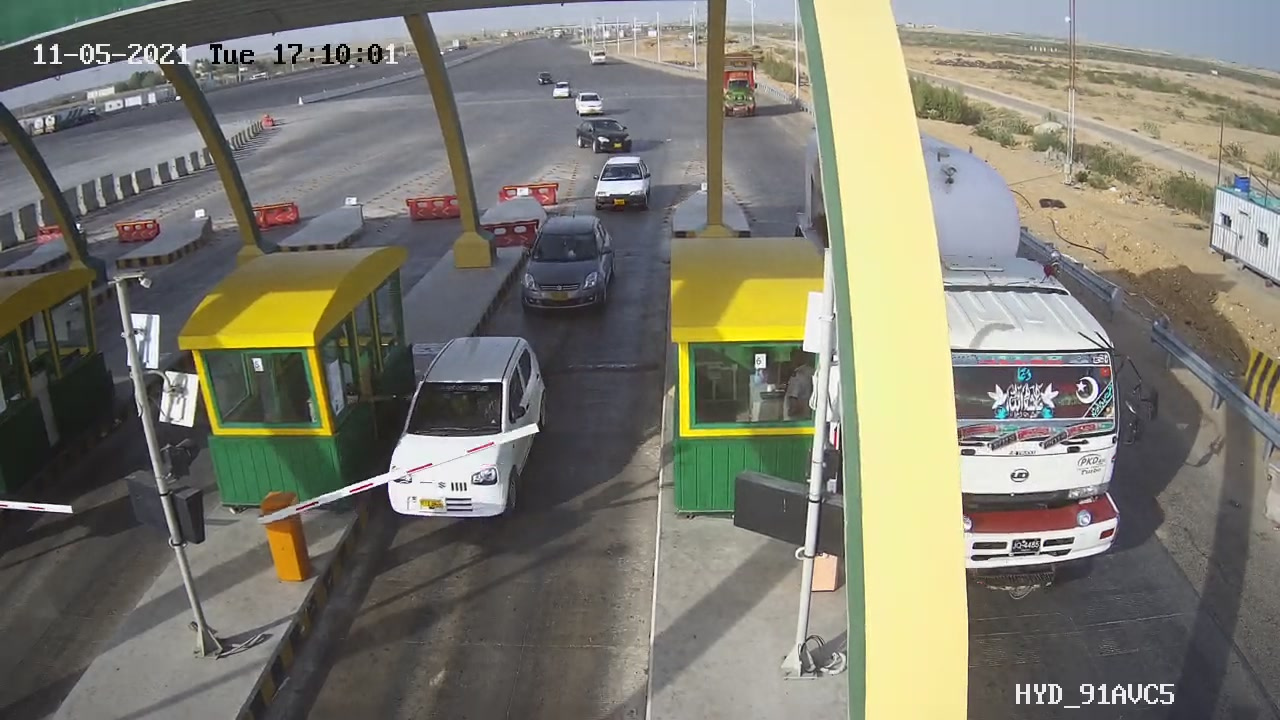F1: (374, 320, 572, 546), (504, 199, 631, 325)
